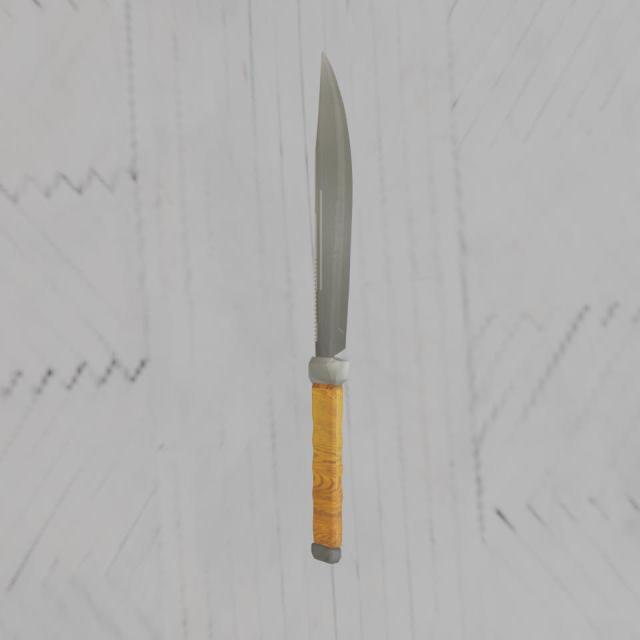knife: (308, 355, 342, 559)
